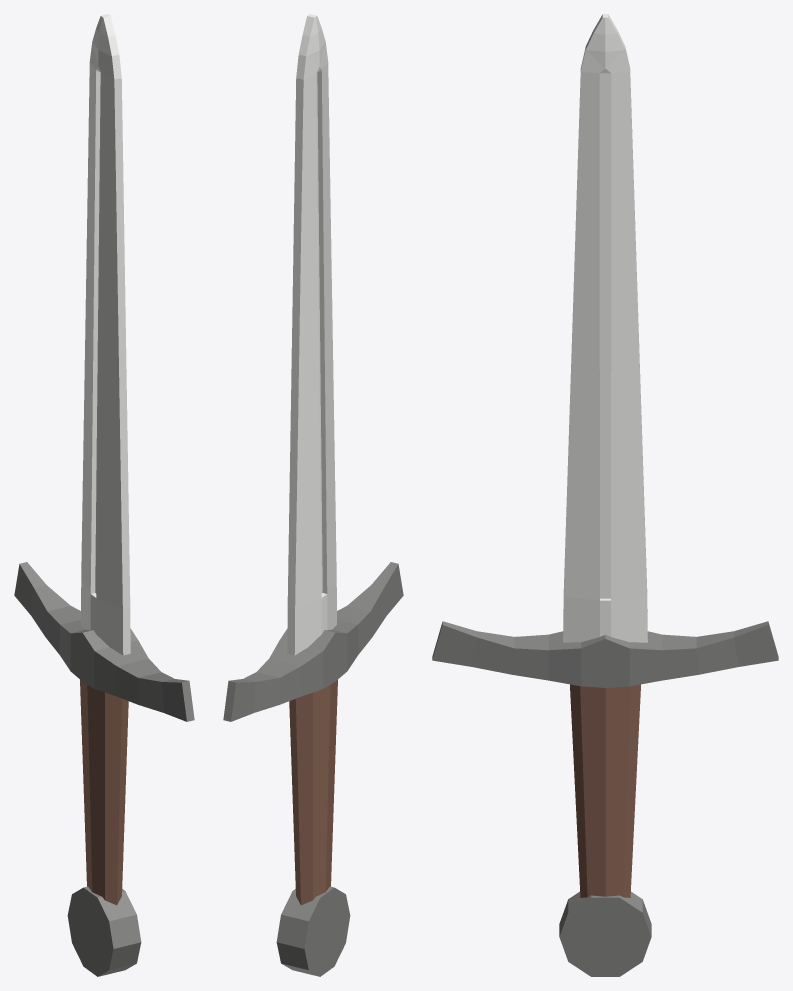
File: ankers-low-poly-medieval-weapons--dagger.glb
The picture shows the model from 3 angles, left to right: view 1: azimuth 30°, elevation 25°; view 2: azimuth 150°, elevation 25°; view 3: azimuth 270°, elevation 25°; orthographic projection.
Visible parts, largest first — view 1: Dagger; view 2: Dagger; view 3: Dagger.
Boxes of the visible parts, x1,y1,x2,y2 form: Dagger: (14, 14, 194, 976); Dagger: (223, 14, 403, 976); Dagger: (432, 14, 778, 976).
Bounding box in the file's own units: 0.04 × 0.8301 × 0.2729.
